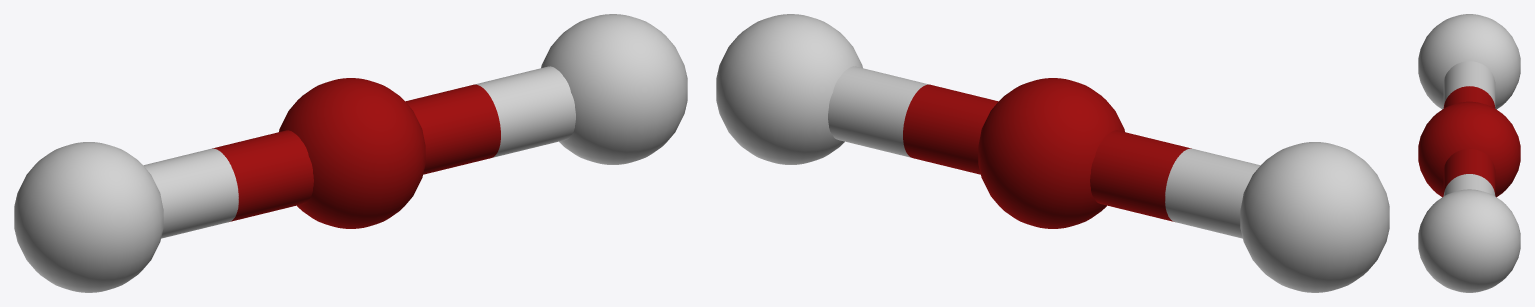
File: Atom Shape 1 - Linear.fbx
3 renders of one model, left to right at view 1: azimuth 30°, elevation 25°; view 2: azimuth 150°, elevation 25°; view 3: azimuth 270°, elevation 25°, orthographic. The views are drawn at different scales.
Visible parts, largest first — view 1: Sphere_1, Sphere_1_2, Sphere, Cylinder_1, Cylinder_2_2, Cylinder, Cylinder_2; view 2: Sphere_1, Sphere_1_2, Sphere, Cylinder_1, Cylinder_2_2, Cylinder, Cylinder_2; view 3: Sphere_1_2, Sphere_1, Sphere, Cylinder, Cylinder_2, Cylinder_2_2, Cylinder_1.
Part boxes in pixels (x1,y1,x2,y2): Sphere_1: [14, 142, 163, 292]; Sphere_1_2: [541, 14, 687, 164]; Sphere: [279, 78, 425, 228]; Cylinder_1: [212, 130, 313, 221]; Cylinder_2_2: [474, 66, 575, 157]; Cylinder: [405, 84, 500, 174]; Cylinder_2: [143, 148, 238, 238]; Sphere_1: [1240, 142, 1389, 292]; Sphere_1_2: [716, 14, 862, 164]; Sphere: [978, 78, 1124, 228]; Cylinder_1: [1090, 130, 1191, 221]; Cylinder_2_2: [828, 66, 929, 157]; Cylinder: [903, 84, 998, 174]; Cylinder_2: [1165, 148, 1260, 238]; Sphere_1_2: [1418, 189, 1520, 292]; Sphere_1: [1418, 14, 1520, 109]; Sphere: [1418, 101, 1520, 197]; Cylinder: [1443, 149, 1495, 194]; Cylinder_2: [1443, 61, 1495, 106]; Cylinder_2_2: [1443, 174, 1495, 195]; Cylinder_1: [1443, 86, 1495, 108].
Bounding box in the file's own units: 1000 × 200 × 198.
